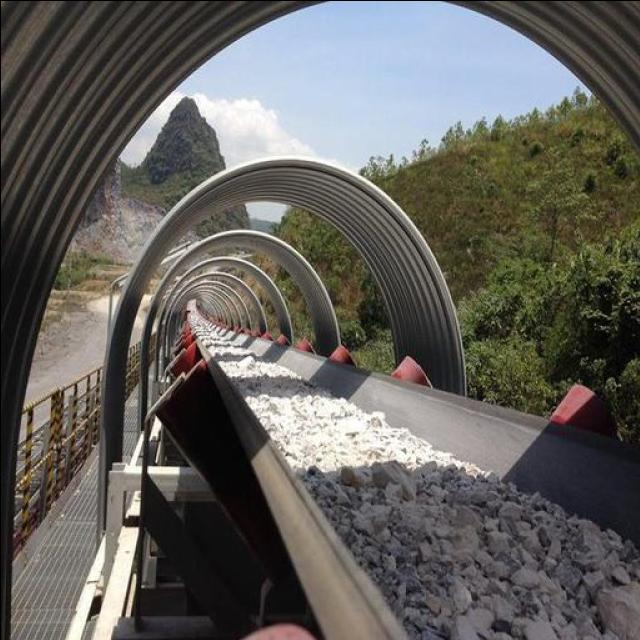conveyor: (181, 289, 640, 640)
